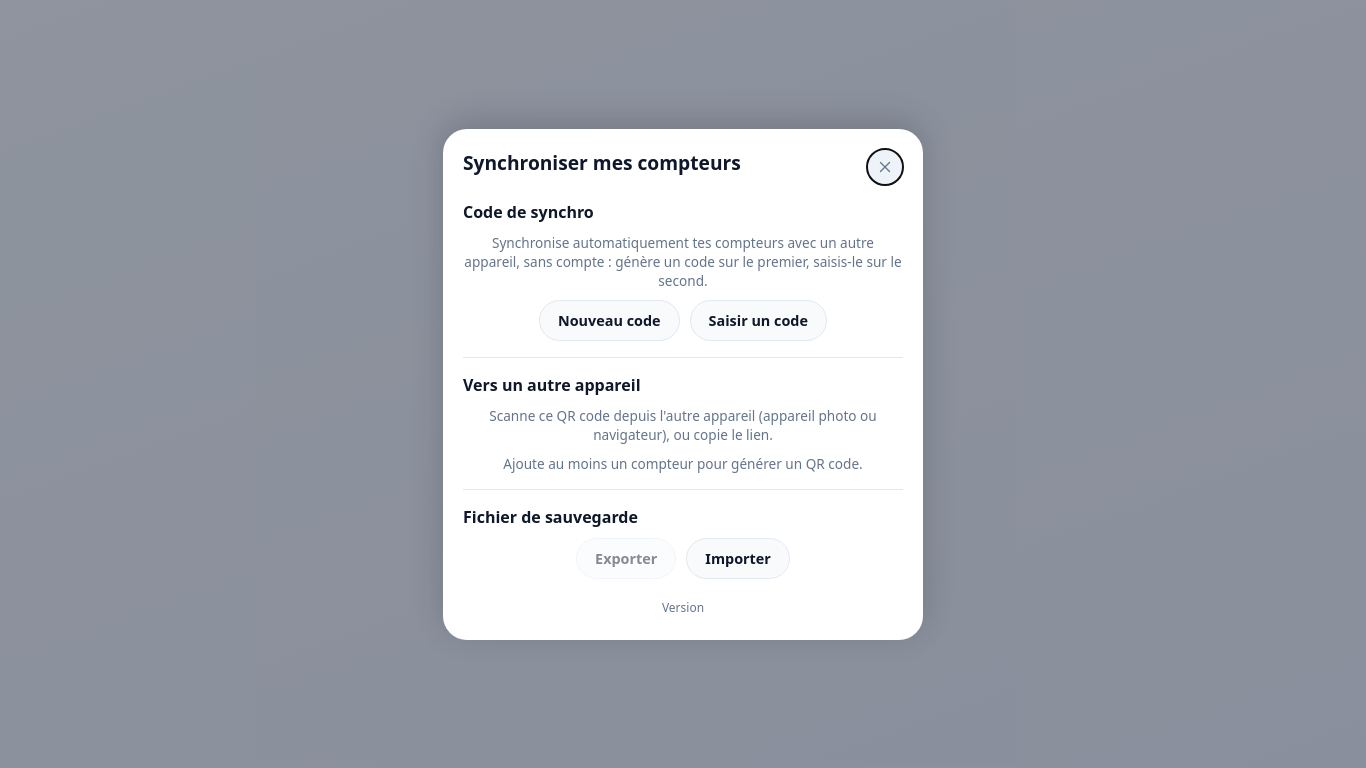
Test case: SyncPanel › code de synchro › avec un worker configuré (VITE_SYNC_WORKER_URL) › révèle un champ de saisie au clic sur "Saisir un code"
This screenshot has width=1366, height=768.
Click the button "Saisir un code": (758, 320) [690,300,827,340]
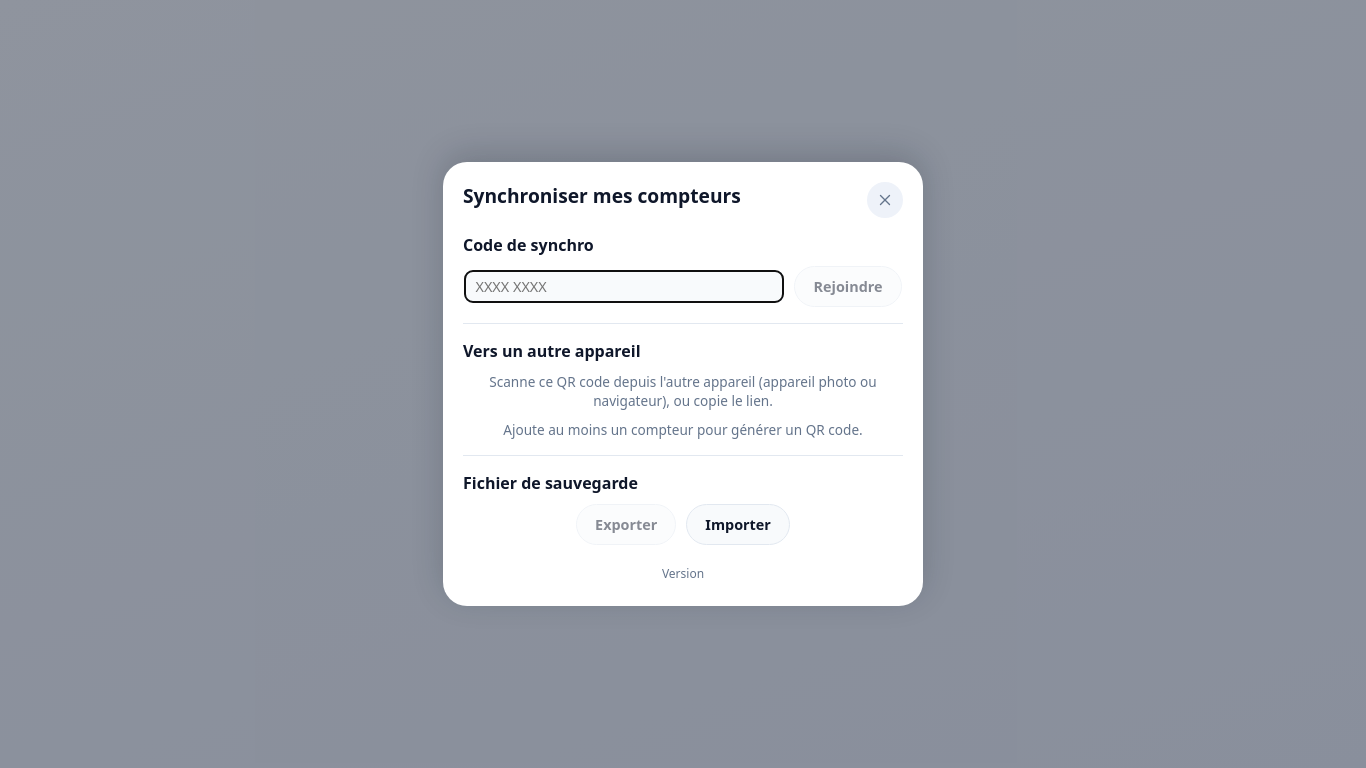
Result: the field with placeholder "XXXX XXXX" is shown at [464,270,784,303]
